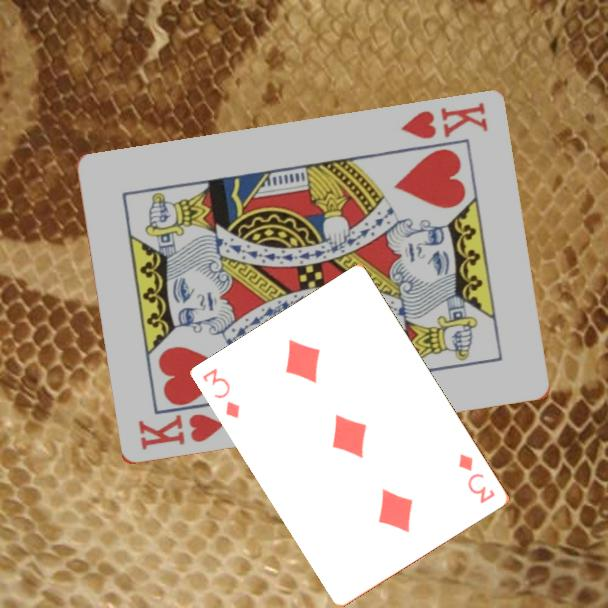d03: (199, 365, 243, 421), (455, 450, 498, 507)
h13: (397, 99, 491, 143), (134, 410, 227, 454)
